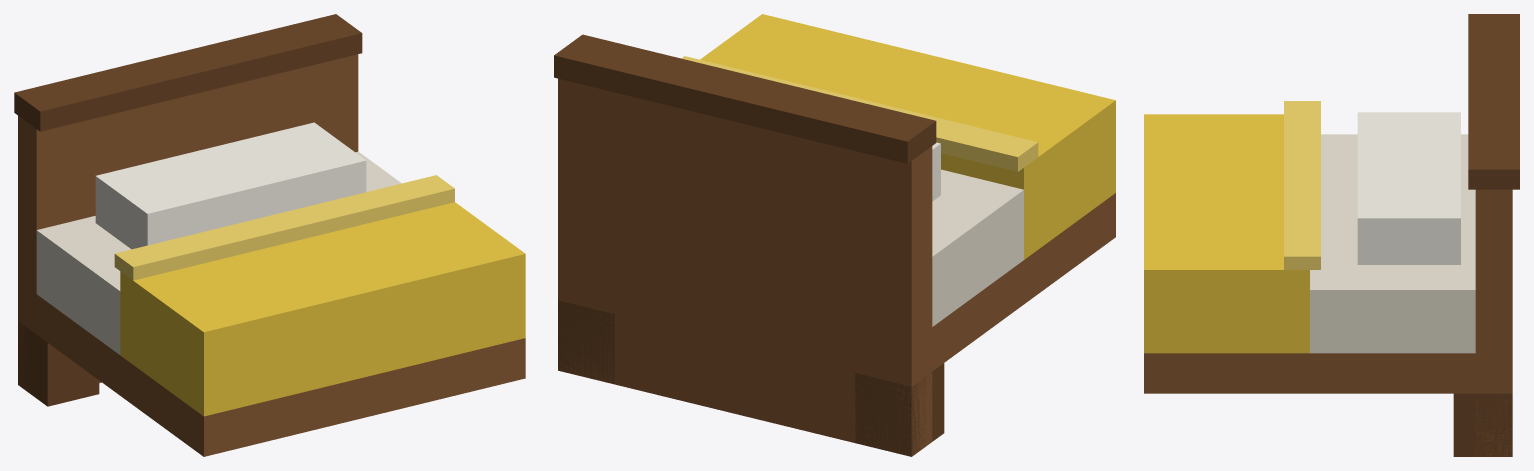
The model's file is bed_yellow_head.glb.
3 renders of one model, left to right at view 1: azimuth 30°, elevation 25°; view 2: azimuth 150°, elevation 25°; view 3: azimuth 270°, elevation 25°, orthographic. The views are drawn at different scales.
Visible parts, largest first — view 1: body; view 2: body; view 3: body.
Boxes of the visible parts, x1,y1,x2,y2 form: body: (14,14,525,456); body: (554,14,1115,456); body: (1144,14,1519,456).
Bounding box in the file's own units: 1 × 0.86 × 1.02.
